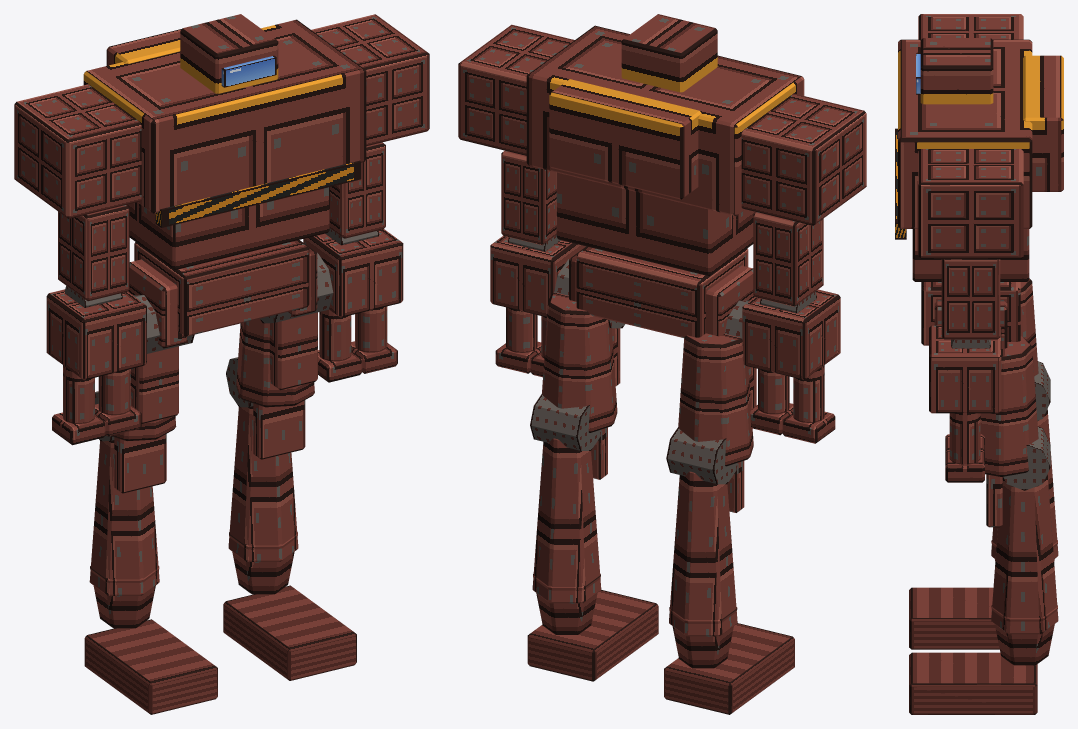
Rendered from mech_shotgun.glb.
The picture shows the model from 3 angles, left to right: view 1: azimuth 30°, elevation 25°; view 2: azimuth 150°, elevation 25°; view 3: azimuth 270°, elevation 25°; orthographic projection. The views are drawn at different scales.
Parts seen in each view (by area): view 1: Torso-head, R_shoulder, root_Pelvis, R_forearm, L_shin, R_shin, L_forearm, L_foot, R_foot, L_shoulder, L_thigh, R_upper_arm (+6 smaller); view 2: Torso-head, R_shoulder, root_Pelvis, R_shin, L_shin, R_forearm, L_shoulder, L_thigh, R_thigh, L_forearm, L_foot, R_foot (+4 smaller); view 3: Torso-head, L_shoulder, L_shin, L_forearm, L_foot, L_thigh, R_foot, L_upper_arm, R_shoulder, root_Pelvis, L_back_knee, R_thigh (+4 smaller).
Boxes of the visible parts, bbox=[...] form: Torso-head: bbox=[83, 14, 366, 270]; R_shoulder: bbox=[14, 84, 141, 218]; root_Pelvis: bbox=[128, 240, 317, 348]; R_forearm: bbox=[46, 289, 146, 445]; L_shin: bbox=[228, 400, 305, 594]; R_shin: bbox=[89, 434, 166, 628]; L_forearm: bbox=[303, 229, 403, 382]; L_foot: bbox=[223, 585, 356, 680]; R_foot: bbox=[84, 619, 217, 714]; L_shoulder: bbox=[311, 14, 429, 146]; L_thigh: bbox=[236, 312, 317, 407]; R_upper_arm: bbox=[58, 205, 129, 301]; Torso-head: bbox=[526, 14, 804, 275]; R_shoulder: bbox=[741, 93, 866, 225]; root_Pelvis: bbox=[569, 246, 754, 337]; R_shin: bbox=[669, 461, 744, 668]; L_shin: bbox=[532, 427, 607, 634]; R_forearm: bbox=[742, 289, 840, 443]; L_shoulder: bbox=[458, 24, 574, 155]; L_thigh: bbox=[542, 292, 620, 432]; R_thigh: bbox=[678, 333, 756, 466]; L_forearm: bbox=[490, 236, 585, 377]; L_foot: bbox=[527, 590, 658, 681]; R_foot: bbox=[664, 623, 794, 714]; Torso-head: bbox=[898, 38, 1063, 281]; L_shoulder: bbox=[918, 149, 1023, 258]; L_shin: bbox=[986, 474, 1058, 665]; L_forearm: bbox=[929, 325, 1001, 482]; L_foot: bbox=[909, 652, 1037, 714]; L_thigh: bbox=[980, 336, 1038, 476]; R_foot: bbox=[909, 587, 999, 649]; L_upper_arm: bbox=[941, 259, 1000, 339]; R_shoulder: bbox=[918, 14, 1023, 39]; root_Pelvis: bbox=[921, 282, 1020, 348]; L_back_knee: bbox=[1003, 426, 1050, 490]; R_thigh: bbox=[1020, 278, 1038, 375].
Bounding box in the file's own units: 20.76 × 34.86 × 8.67.
1 material, 1 textured.
